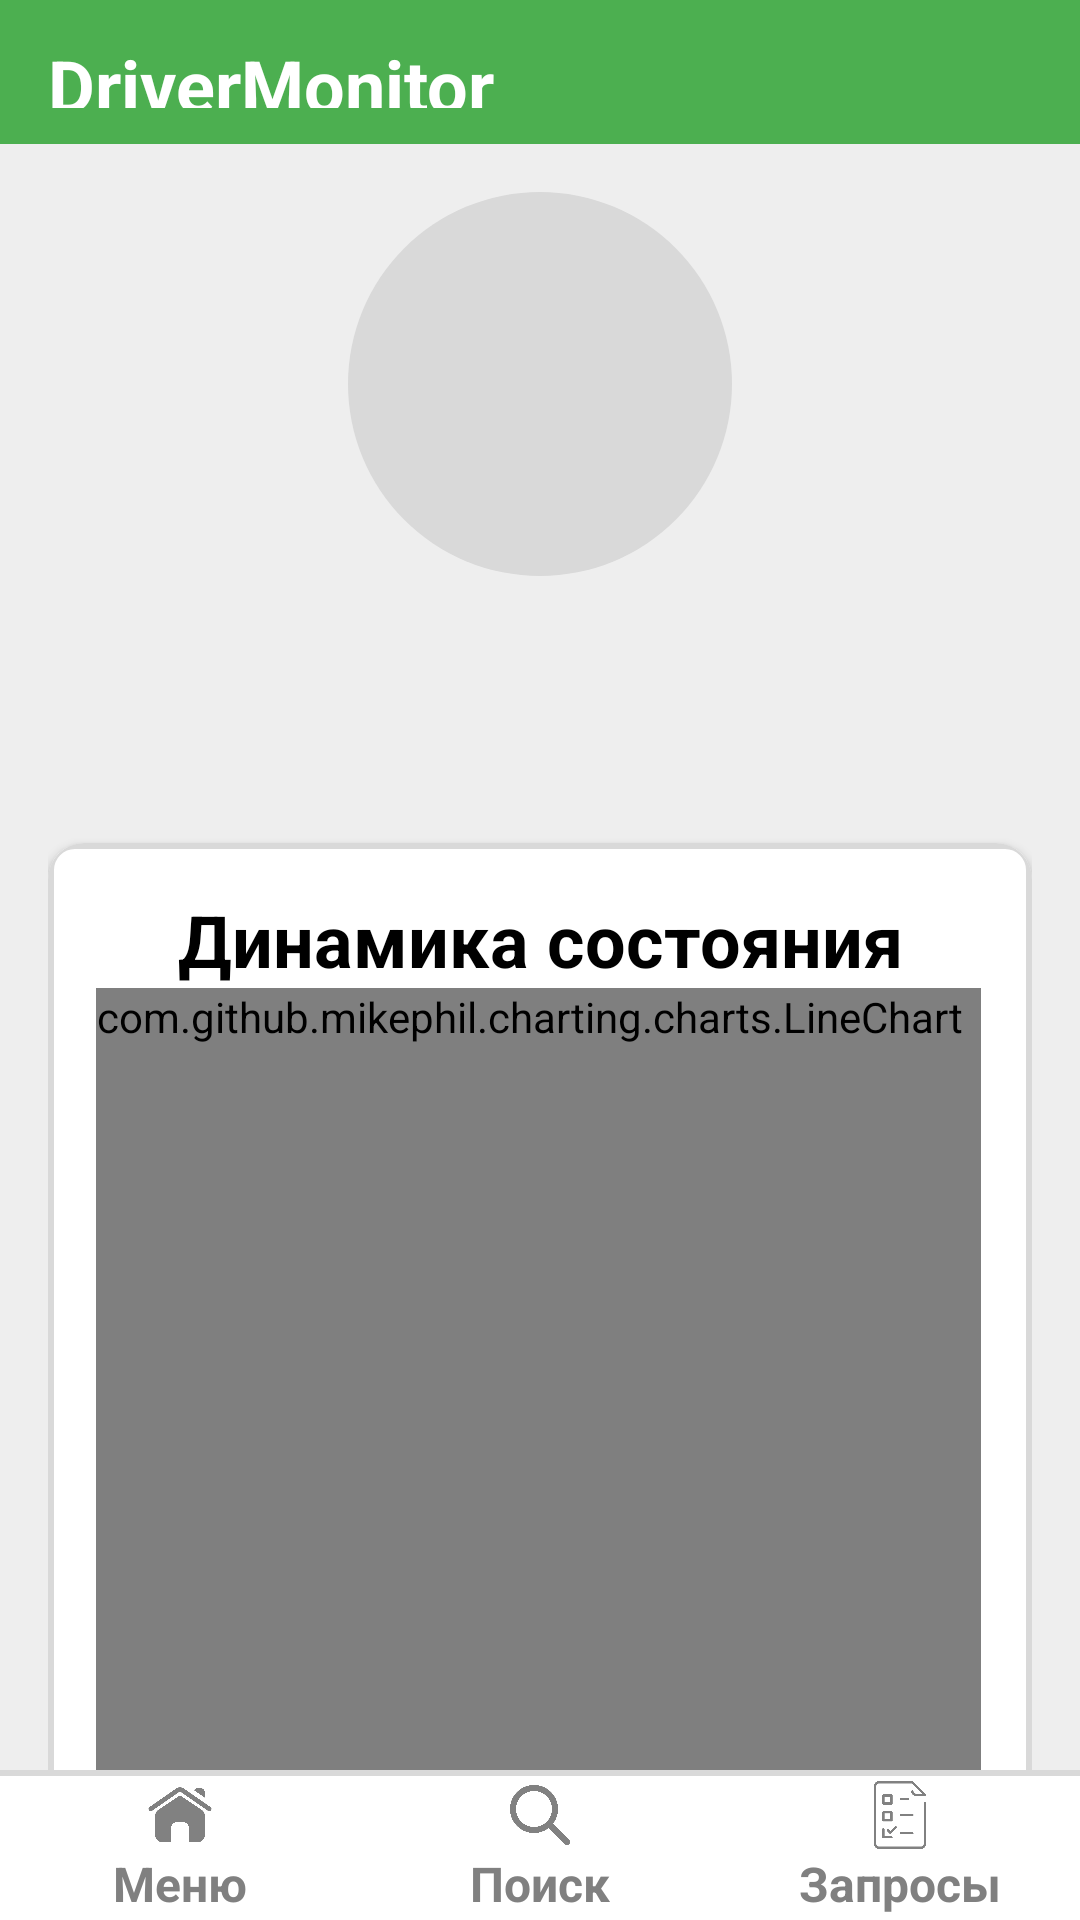

Icon click points for this 1080x1920 phone screenshot, format [x,y]:
home: [180,1814]
tests: [900,1815]
